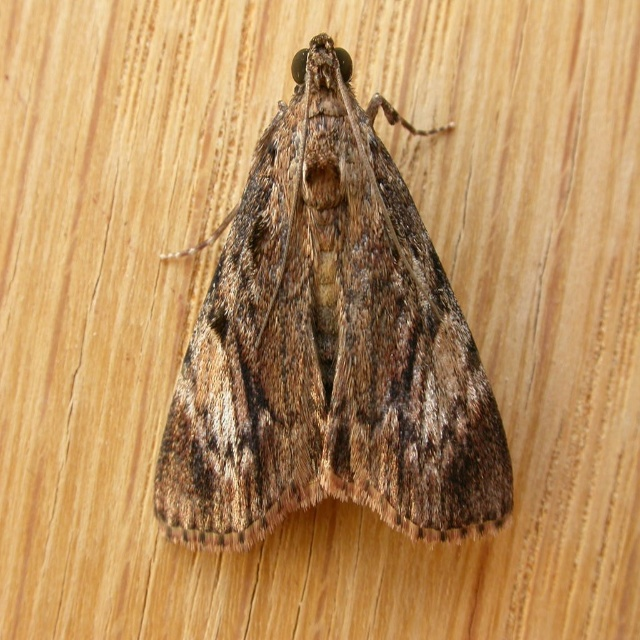Moths and butterflies: (150, 33, 520, 550)
